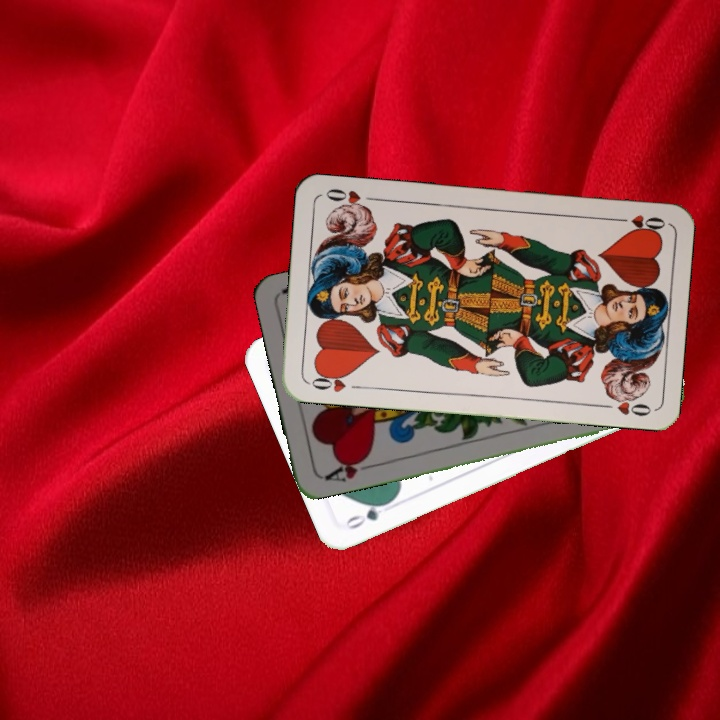GO: (341, 496, 395, 532)
HA: (320, 451, 377, 485)
HO: (305, 368, 364, 395), (609, 211, 668, 235)
